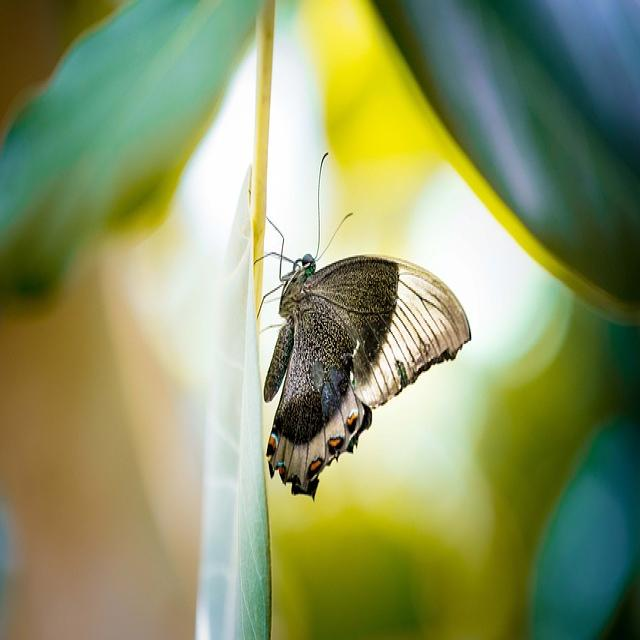butterfly: (264, 255, 472, 497)
